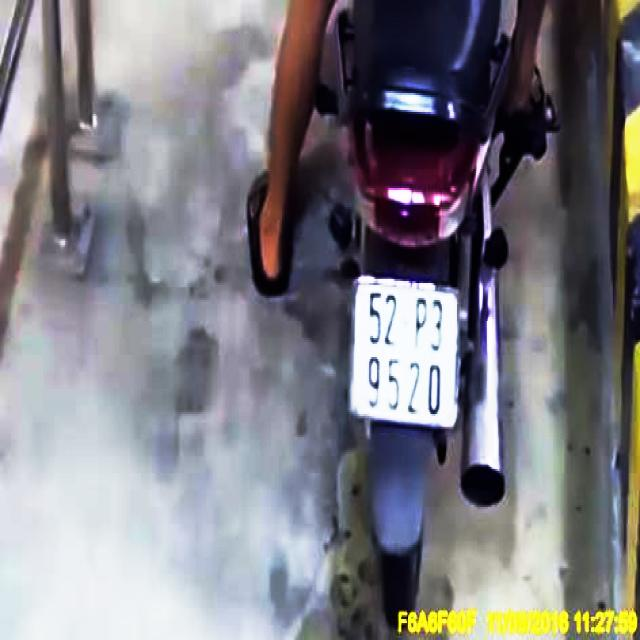license_plate: (355, 277, 457, 427)
